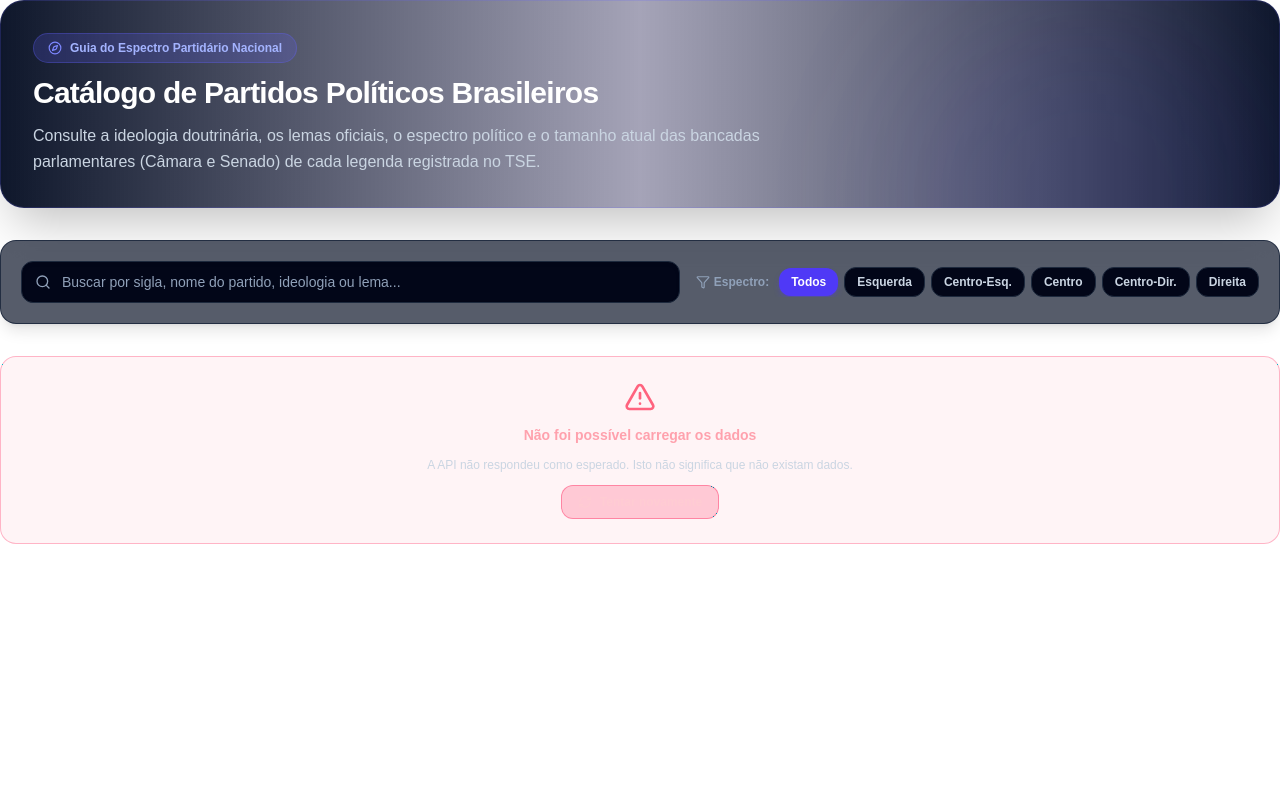
it: PartiesPanel › erro mostra alerta e retry recarrega
The width and height of the screenshot is (1280, 800).
Check: the message is shown, box left=0, top=356, right=1279, bottom=544
Click the button "Tentar novamente". click: (640, 502)
box: left=561, top=485, right=719, bottom=519
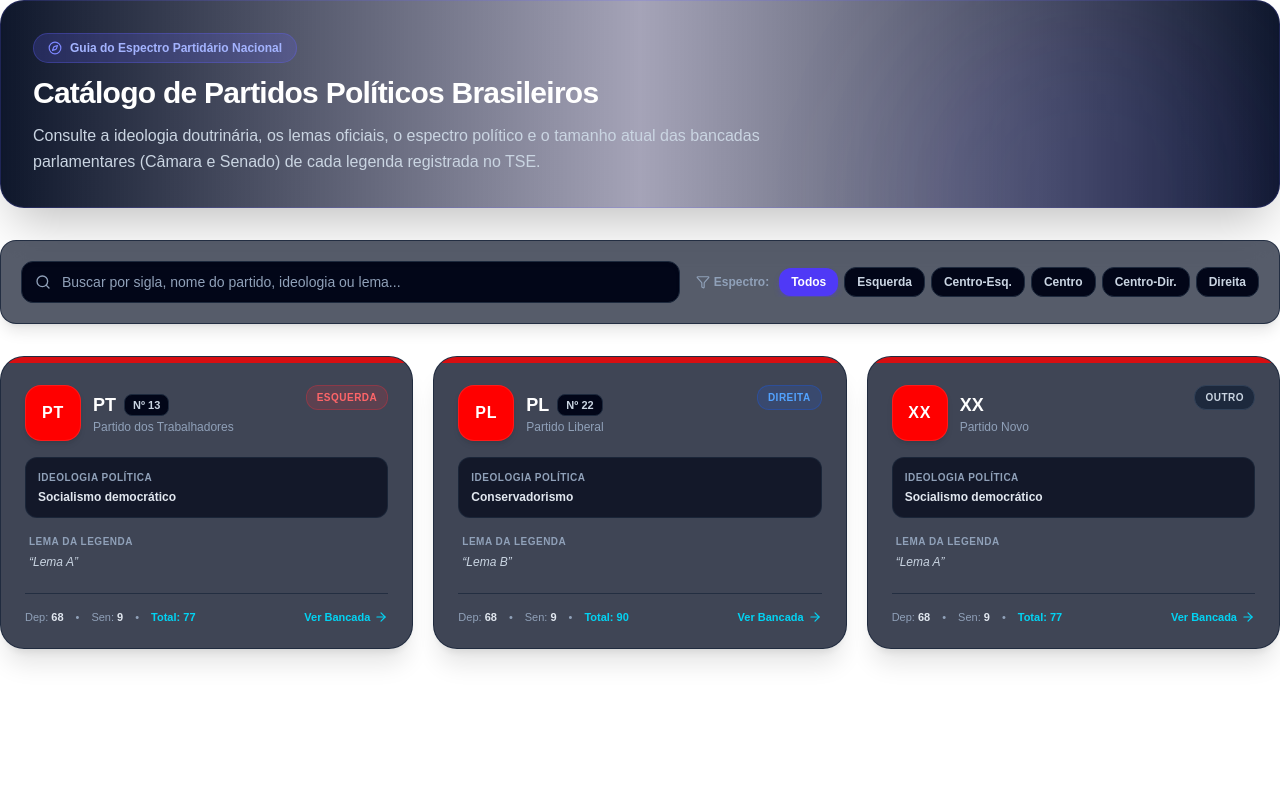
Check: the text "Partido Liberal" is shown, box left=526, top=419, right=604, bottom=435
